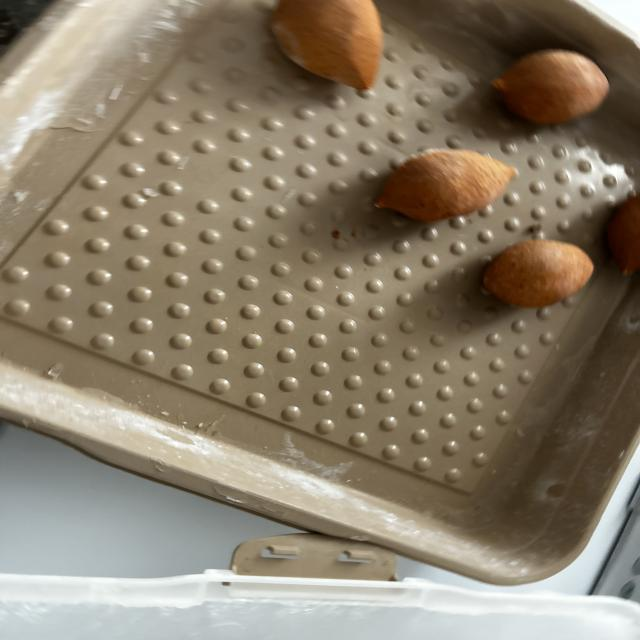kobi: (369, 151, 518, 220), (268, 2, 379, 92), (489, 54, 614, 117), (484, 241, 596, 305), (606, 190, 640, 278)
